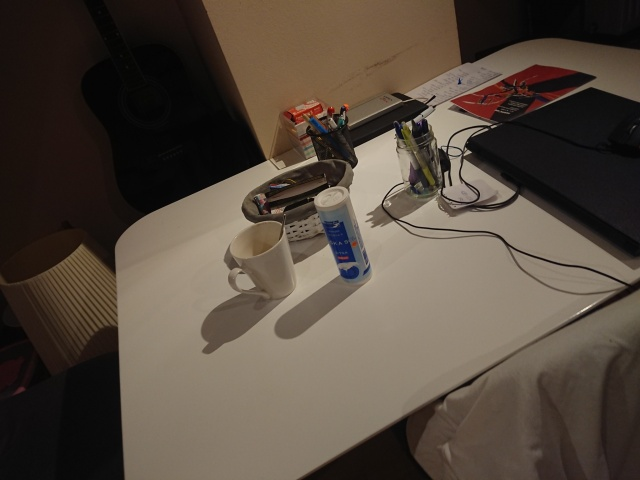Solana Pag Fine Sea Salt 250g: (311, 184, 376, 288)
